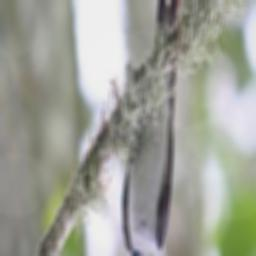Swallow: (120, 0, 183, 256)
